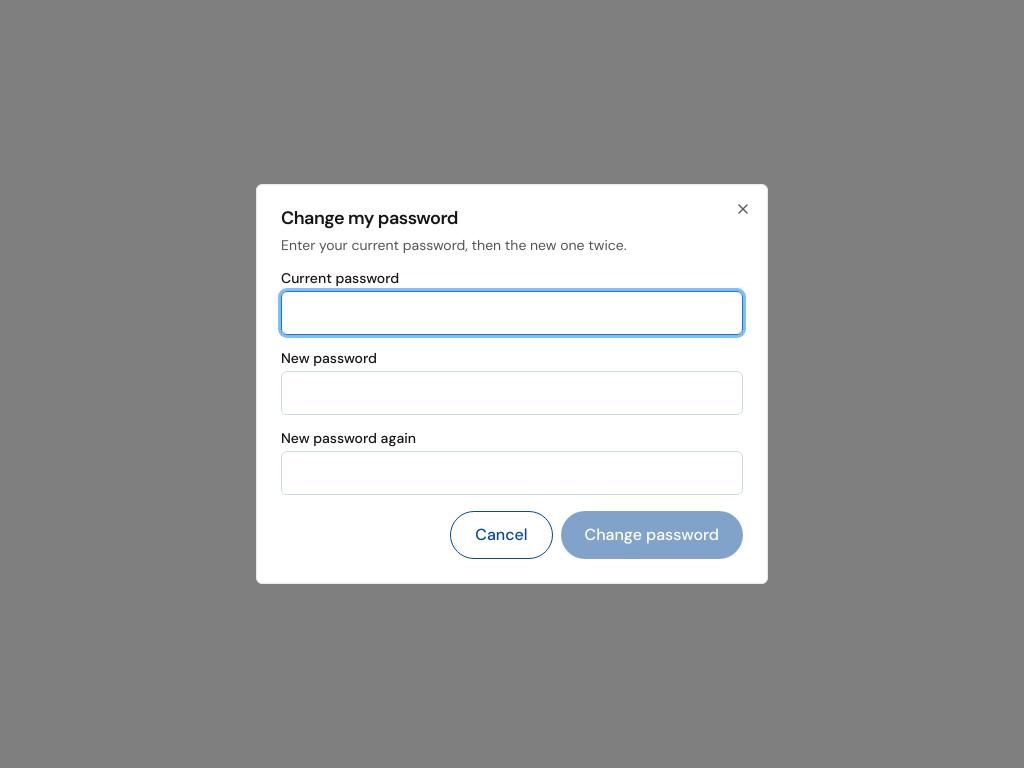
Test: ChangePasswordDialog › does not send a short or mismatched new password
Type "OldPassword123x" into the password field labelled "Current password" at x=512, y=313, box [281,291,743,335]
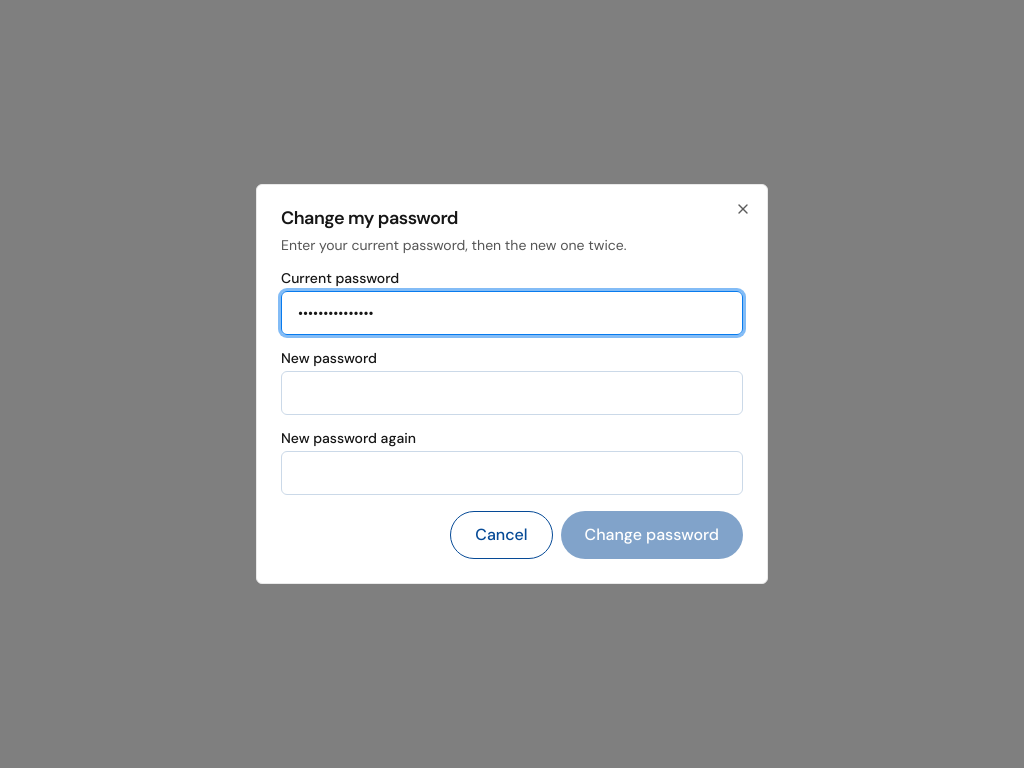
Type "short" into the password field labelled "New password" at x=512, y=393, box [281,371,743,415]
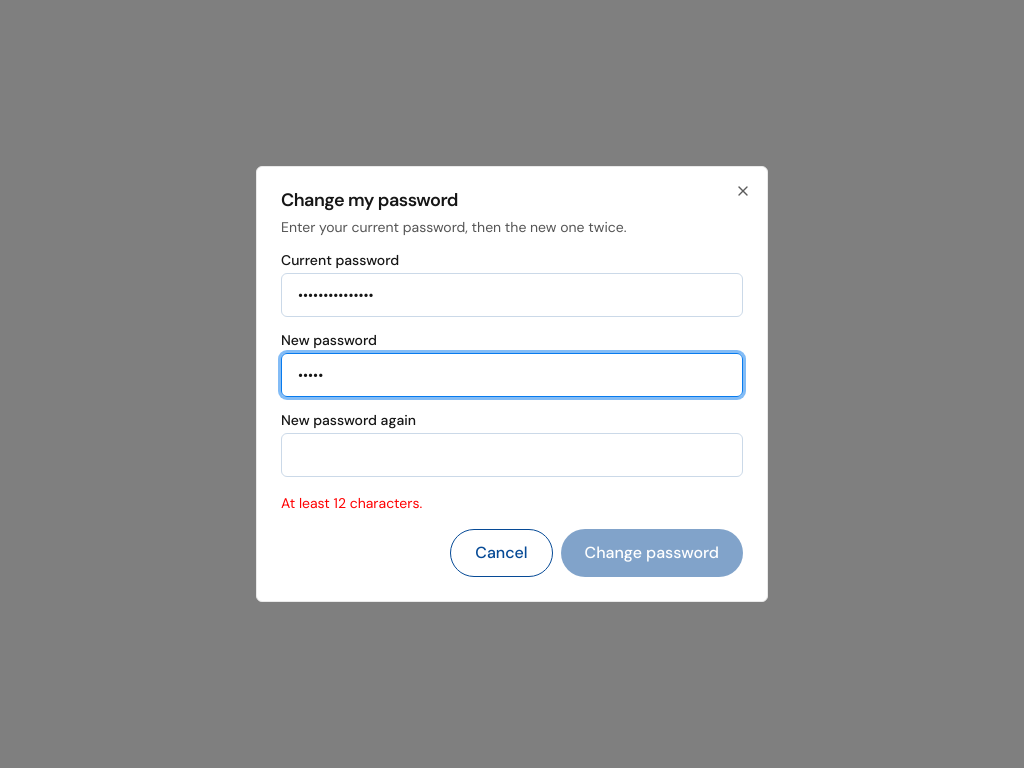
Check: the button "Change password" is disabled, box [561,529,743,577]
Check: the message shows "12 characters", box [281,494,422,512]
